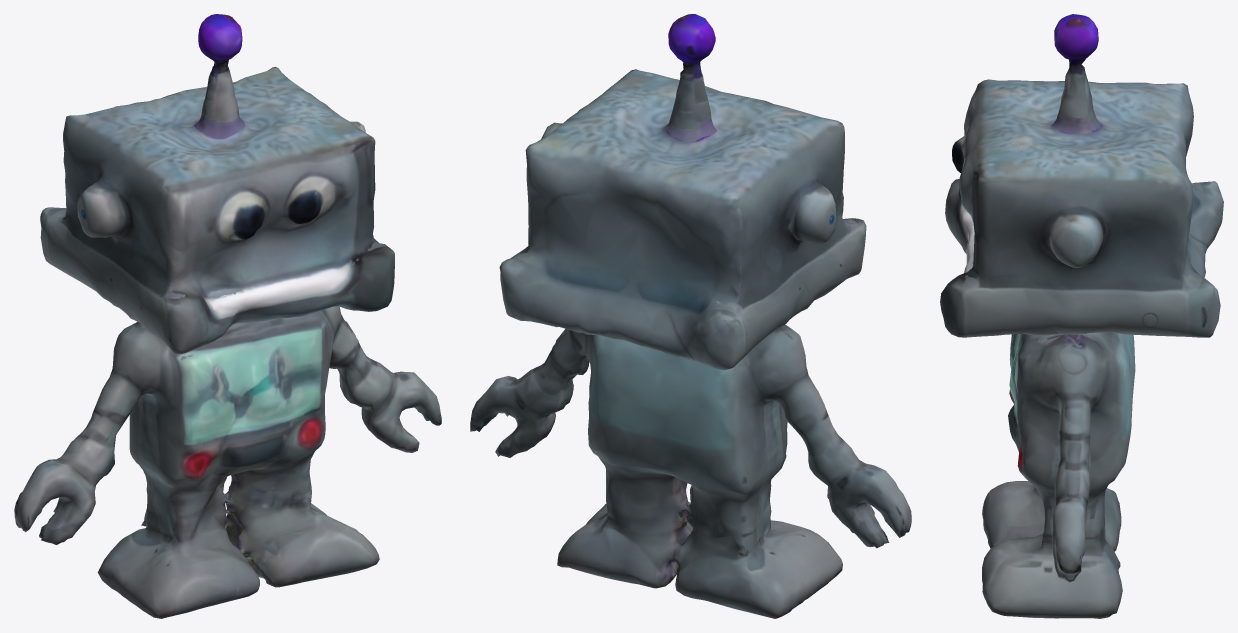
The model's file is herbie_0806222411.glb.
3 views of the same model, side by side, from view 1: azimuth 30°, elevation 25°; view 2: azimuth 150°, elevation 25°; view 3: azimuth 270°, elevation 25° (orthographic). The views are drawn at different scales.
Bounding box in the file's own units: 0.9362 × 1.2 × 0.5523.
Materials: 1 (1 with a texture image).
